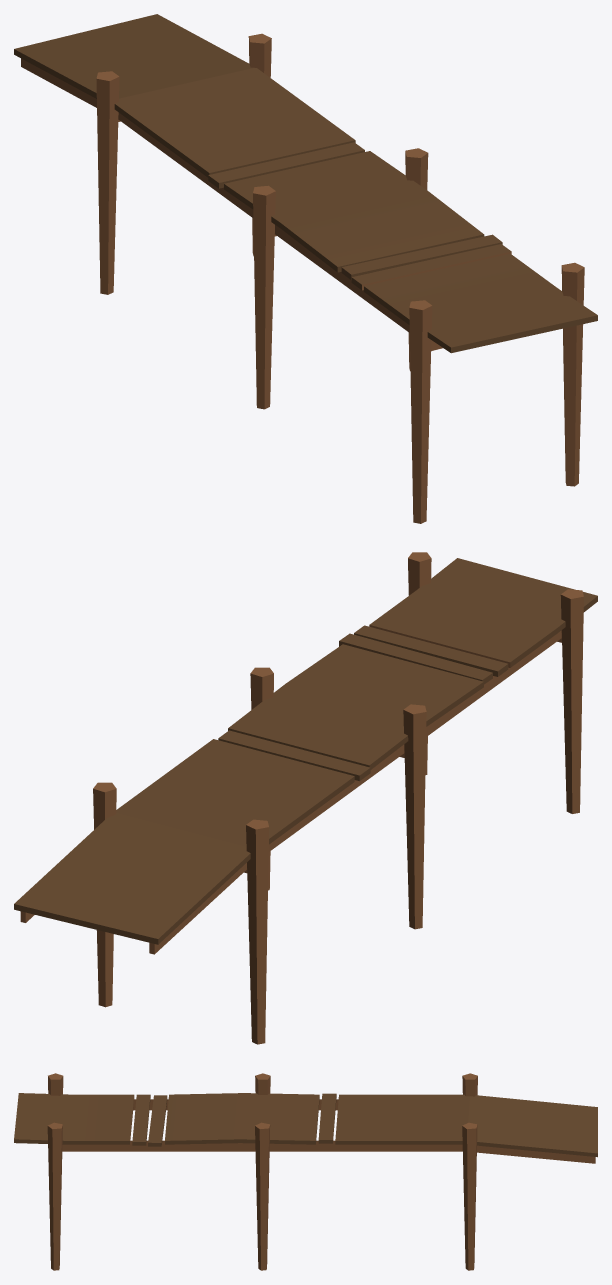
File: pirates_dock-wood.fbx
3 views of the same model, one above another, from view 1: azimuth 30°, elevation 25°; view 2: azimuth 150°, elevation 25°; view 3: azimuth 270°, elevation 25° (orthographic). The views are drawn at different scales.
Parts seen in each view (by area): view 1: pirates_dock_wood; view 2: pirates_dock_wood; view 3: pirates_dock_wood.
Part boxes in pixels (<box>): pirates_dock_wood: <box>14,14,597,523</box>; pirates_dock_wood: <box>14,552,597,1044</box>; pirates_dock_wood: <box>14,1073,597,1270</box>.
Size of the model in its own units: 45.31 by 54.03 by 200.
